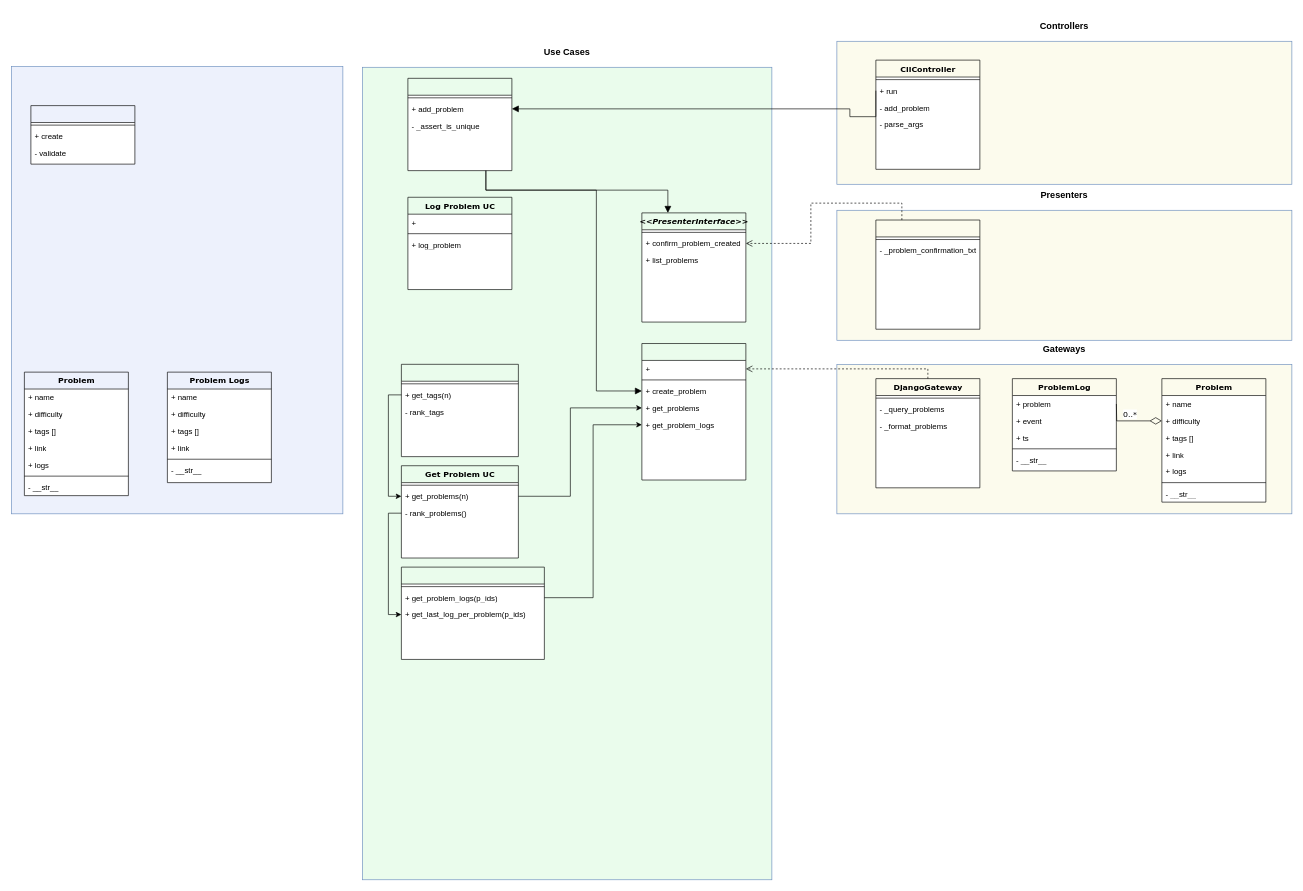
The diagram is 1303 pixels wide and 891 high, and some of its shapes have lost their labels. Each missing label, with the box of its shape:
<<DBGatewayInterface>>: (641, 343, 746, 480)
Add Problem UC: (407, 78, 512, 171)
ConsolePresenter: (875, 219, 980, 329)
Domain: (11, 66, 343, 514)
Get ProblemLog UC: (401, 566, 544, 659)
Get Tag UC: (401, 364, 518, 457)
ProblemCreator: (30, 105, 135, 164)
